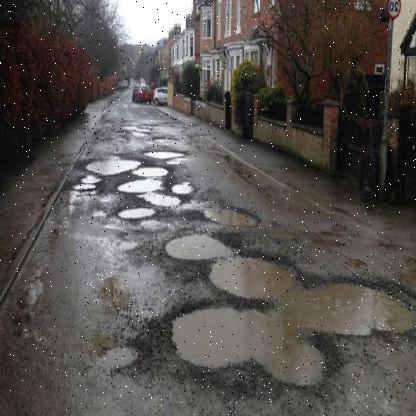pothole_water_m: (68, 132, 192, 211)
